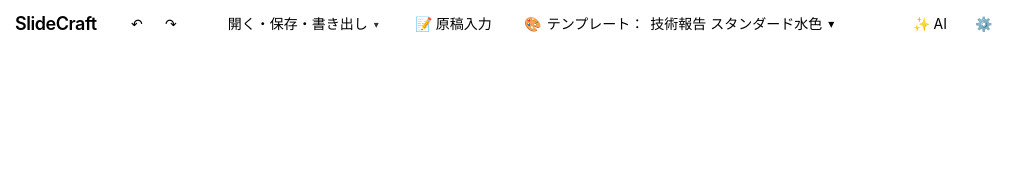
Test case: #724 PR-B 1: メニューは Portal に出て、区画と項目は置き換え前と同じ › ⚙: 表示（言語・配色の行。項目でない）／AI・ヘルプ（2）
Click the button "⚙".
click(983, 24)  # box [967,8,999,40]
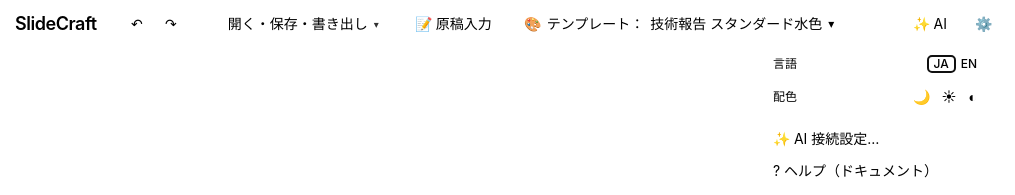
Expected: the element showing "JA EN" is shown, [926,54,985,74]
Expected: the element showing "🌙 ☀ ◐" is shown, [905,86,985,108]
